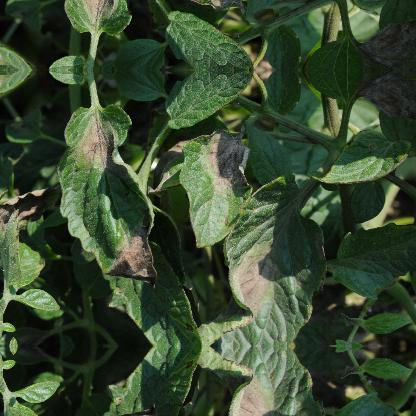Late-Blight: (44, 96, 166, 322), (204, 172, 332, 344), (179, 117, 252, 245), (204, 345, 331, 416), (1, 160, 50, 289), (44, 367, 166, 416), (359, 69, 415, 141), (359, 0, 415, 69)
